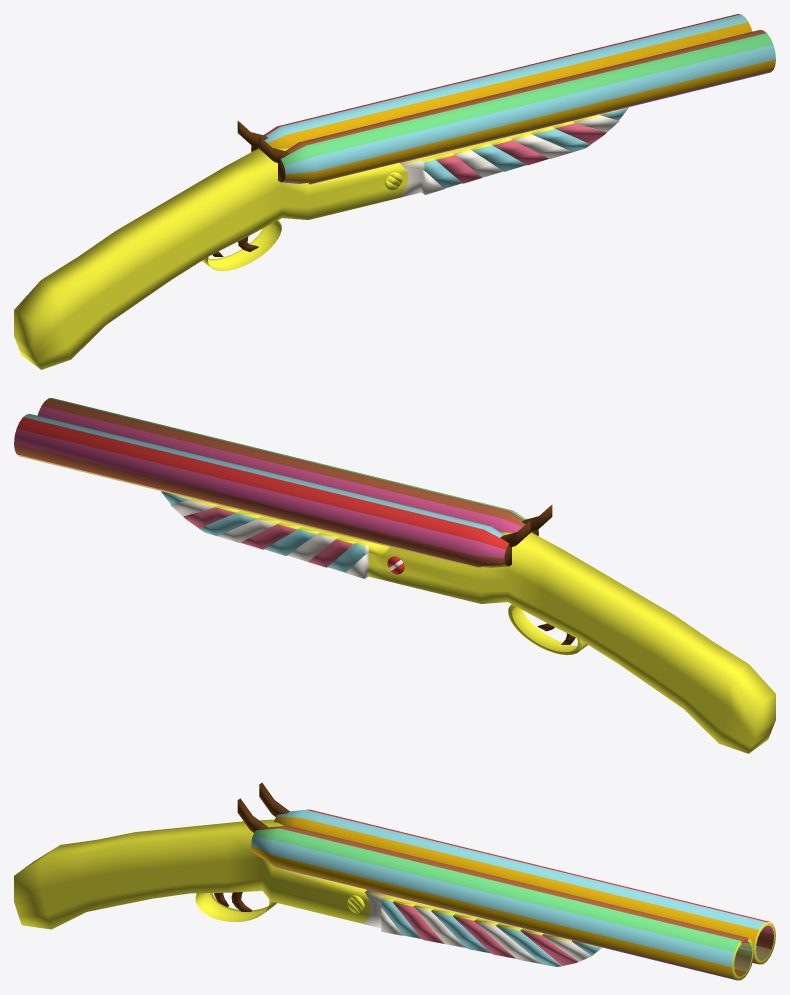
File: SHOTGUN.fbx
3 renders of one model, top to bottom at view 1: azimuth 30°, elevation 25°; view 2: azimuth 150°, elevation 25°; view 3: azimuth 330°, elevation 25°, orthographic.
Parts seen in each view (by area): view 1: Cube.002; view 2: Cube.002; view 3: Cube.002.
Boxes of the visible parts, x1,y1,x2,y2 form: Cube.002: (14,14,775,369); Cube.002: (14,398,775,753); Cube.002: (14,783,775,980).
Bounding box in the file's own units: 46.74 × 11.01 × 4.88.
